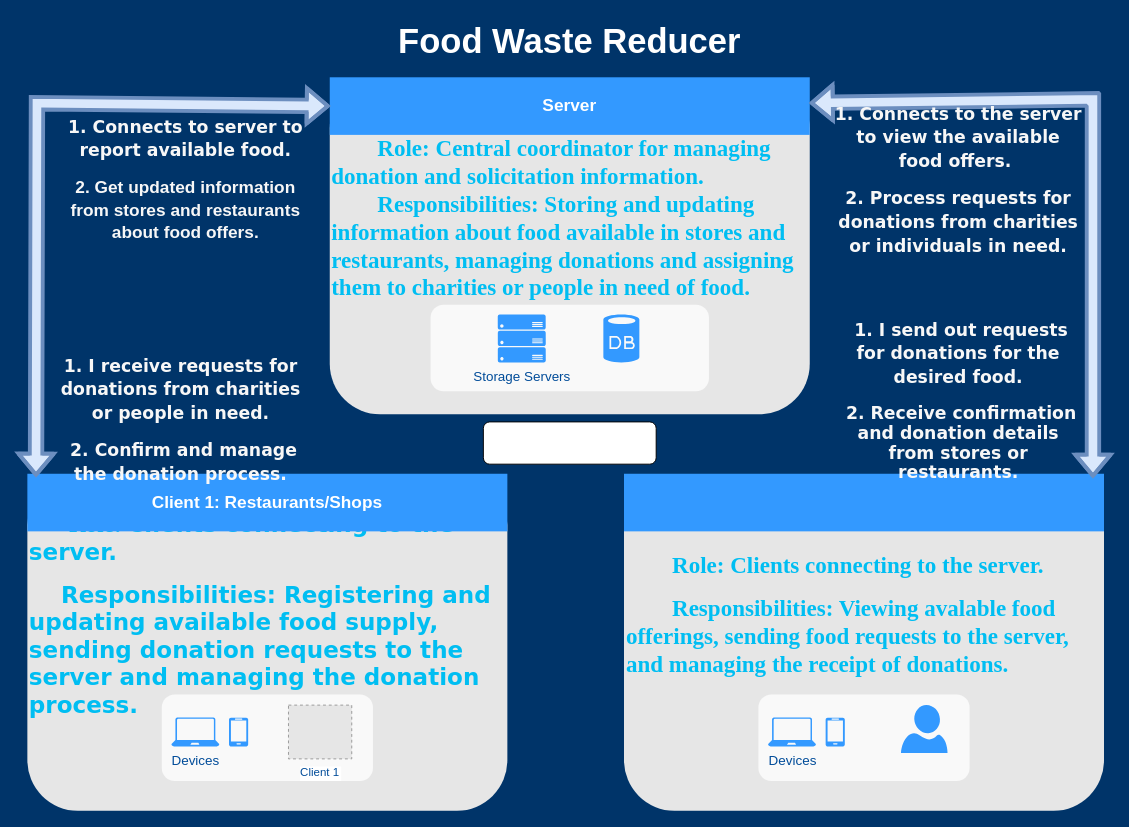
Image size: 1129x827. Some labels were removed from this diagram. Grey dashed boxes stand in for pictures. The shapes that lost their labels are listed below. From the top down, each one's centre as x and y in pixels, then its label:
point (621, 338): Database
point (569, 442): TCP/IP protocol
point (864, 502): Client 2: charitable organizations/people in need
point (923, 729): Client 2
